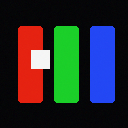1 square: (31, 50, 49, 68)
